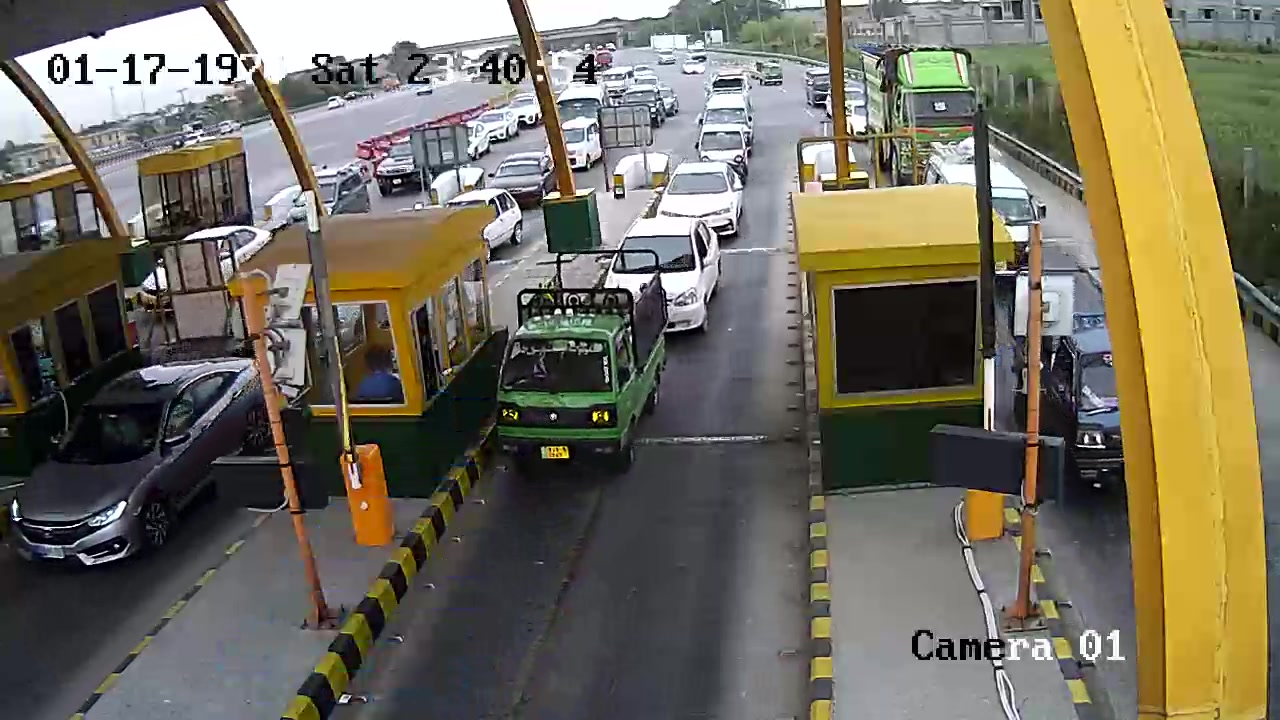F1: (491, 236, 672, 496)
